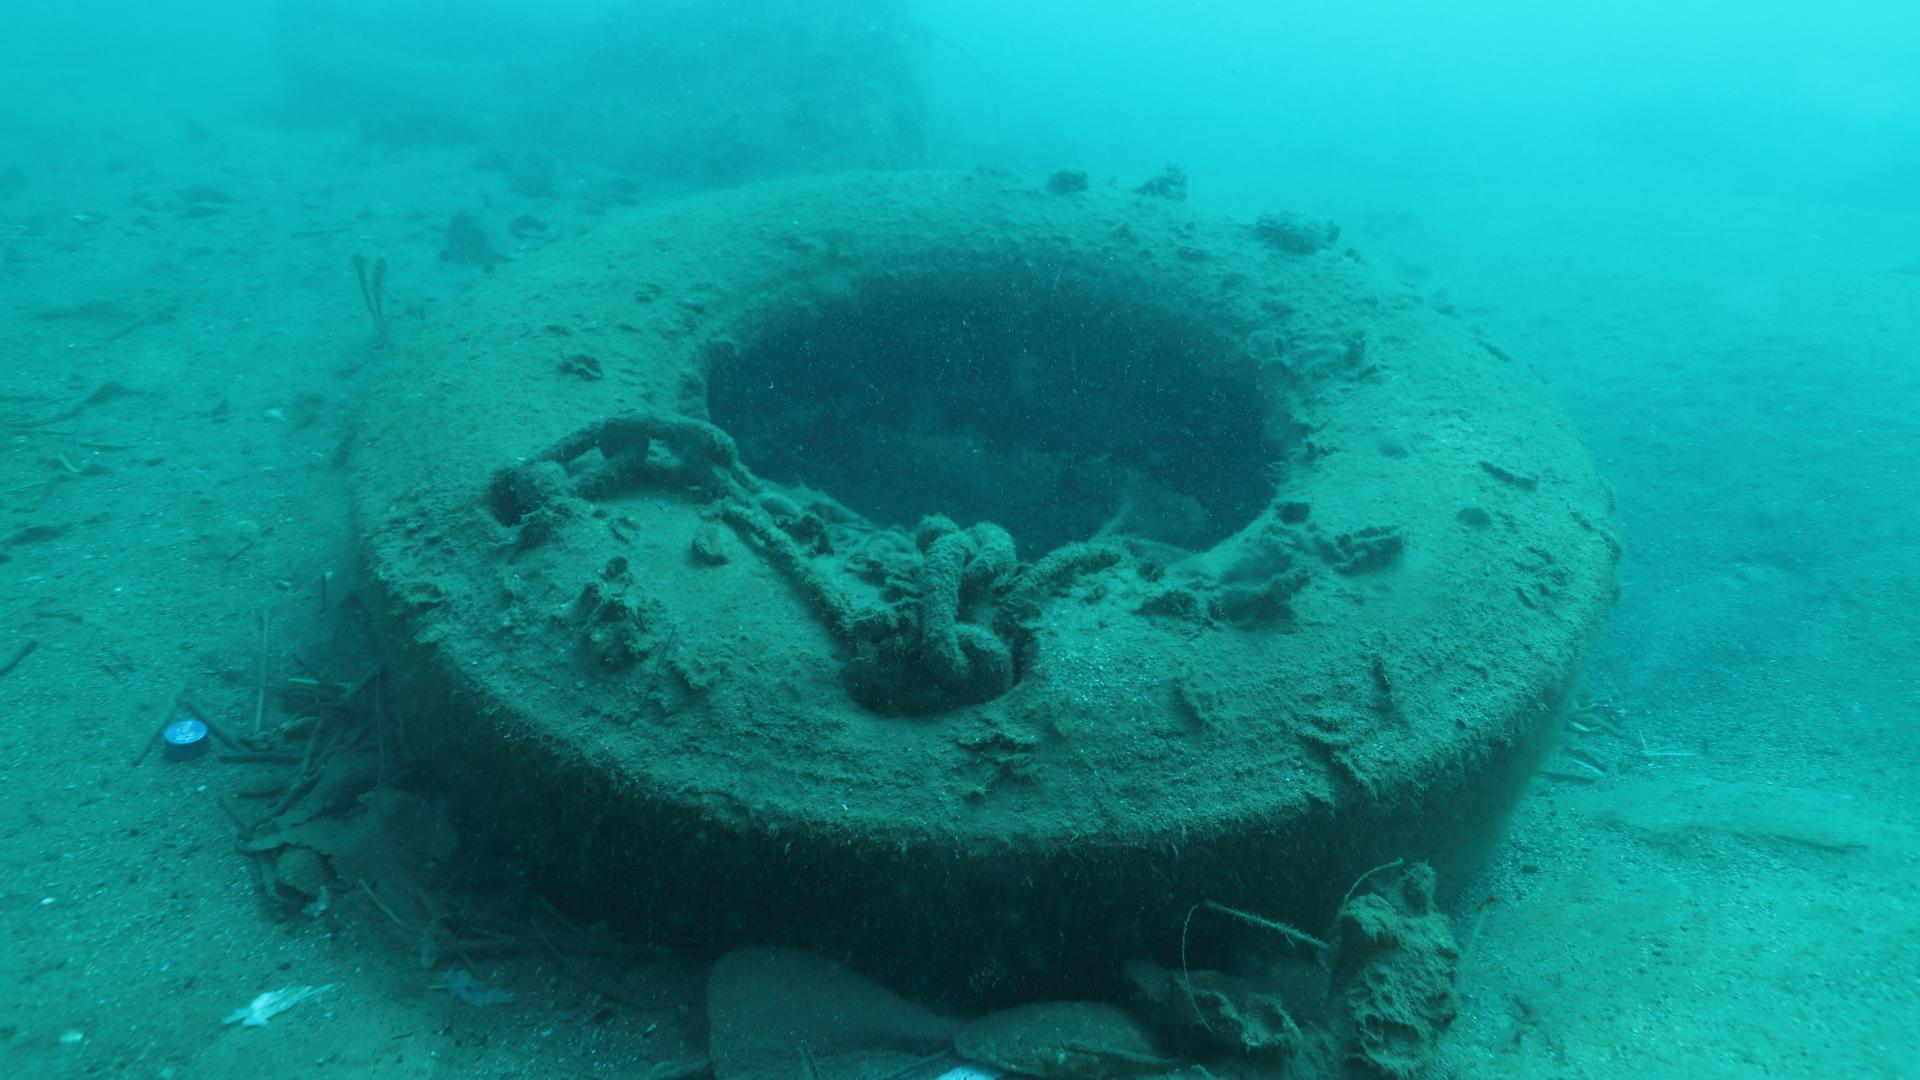tire: (355, 167, 1614, 1000)
